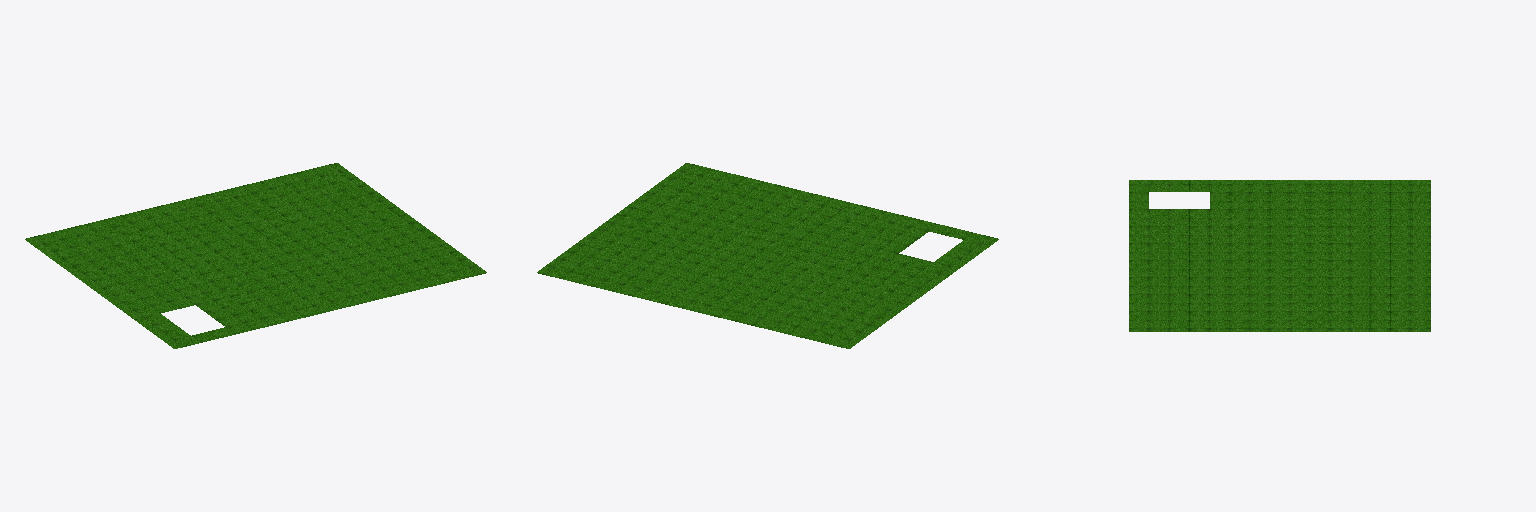
3 renders of one model, left to right at view 1: azimuth 30°, elevation 25°; view 2: azimuth 150°, elevation 25°; view 3: azimuth 270°, elevation 25°, orthographic.
Parts seen in each view (by area): view 1: Planoprincipal; view 2: Planoprincipal; view 3: Planoprincipal.
Part boxes in pixels (bbox=[...]): Planoprincipal: bbox=[25, 163, 486, 348]; Planoprincipal: bbox=[537, 163, 998, 348]; Planoprincipal: bbox=[1129, 180, 1430, 331].
Size of the model in its own units: 36 by 0 by 30.
1 materials, 1 textured.